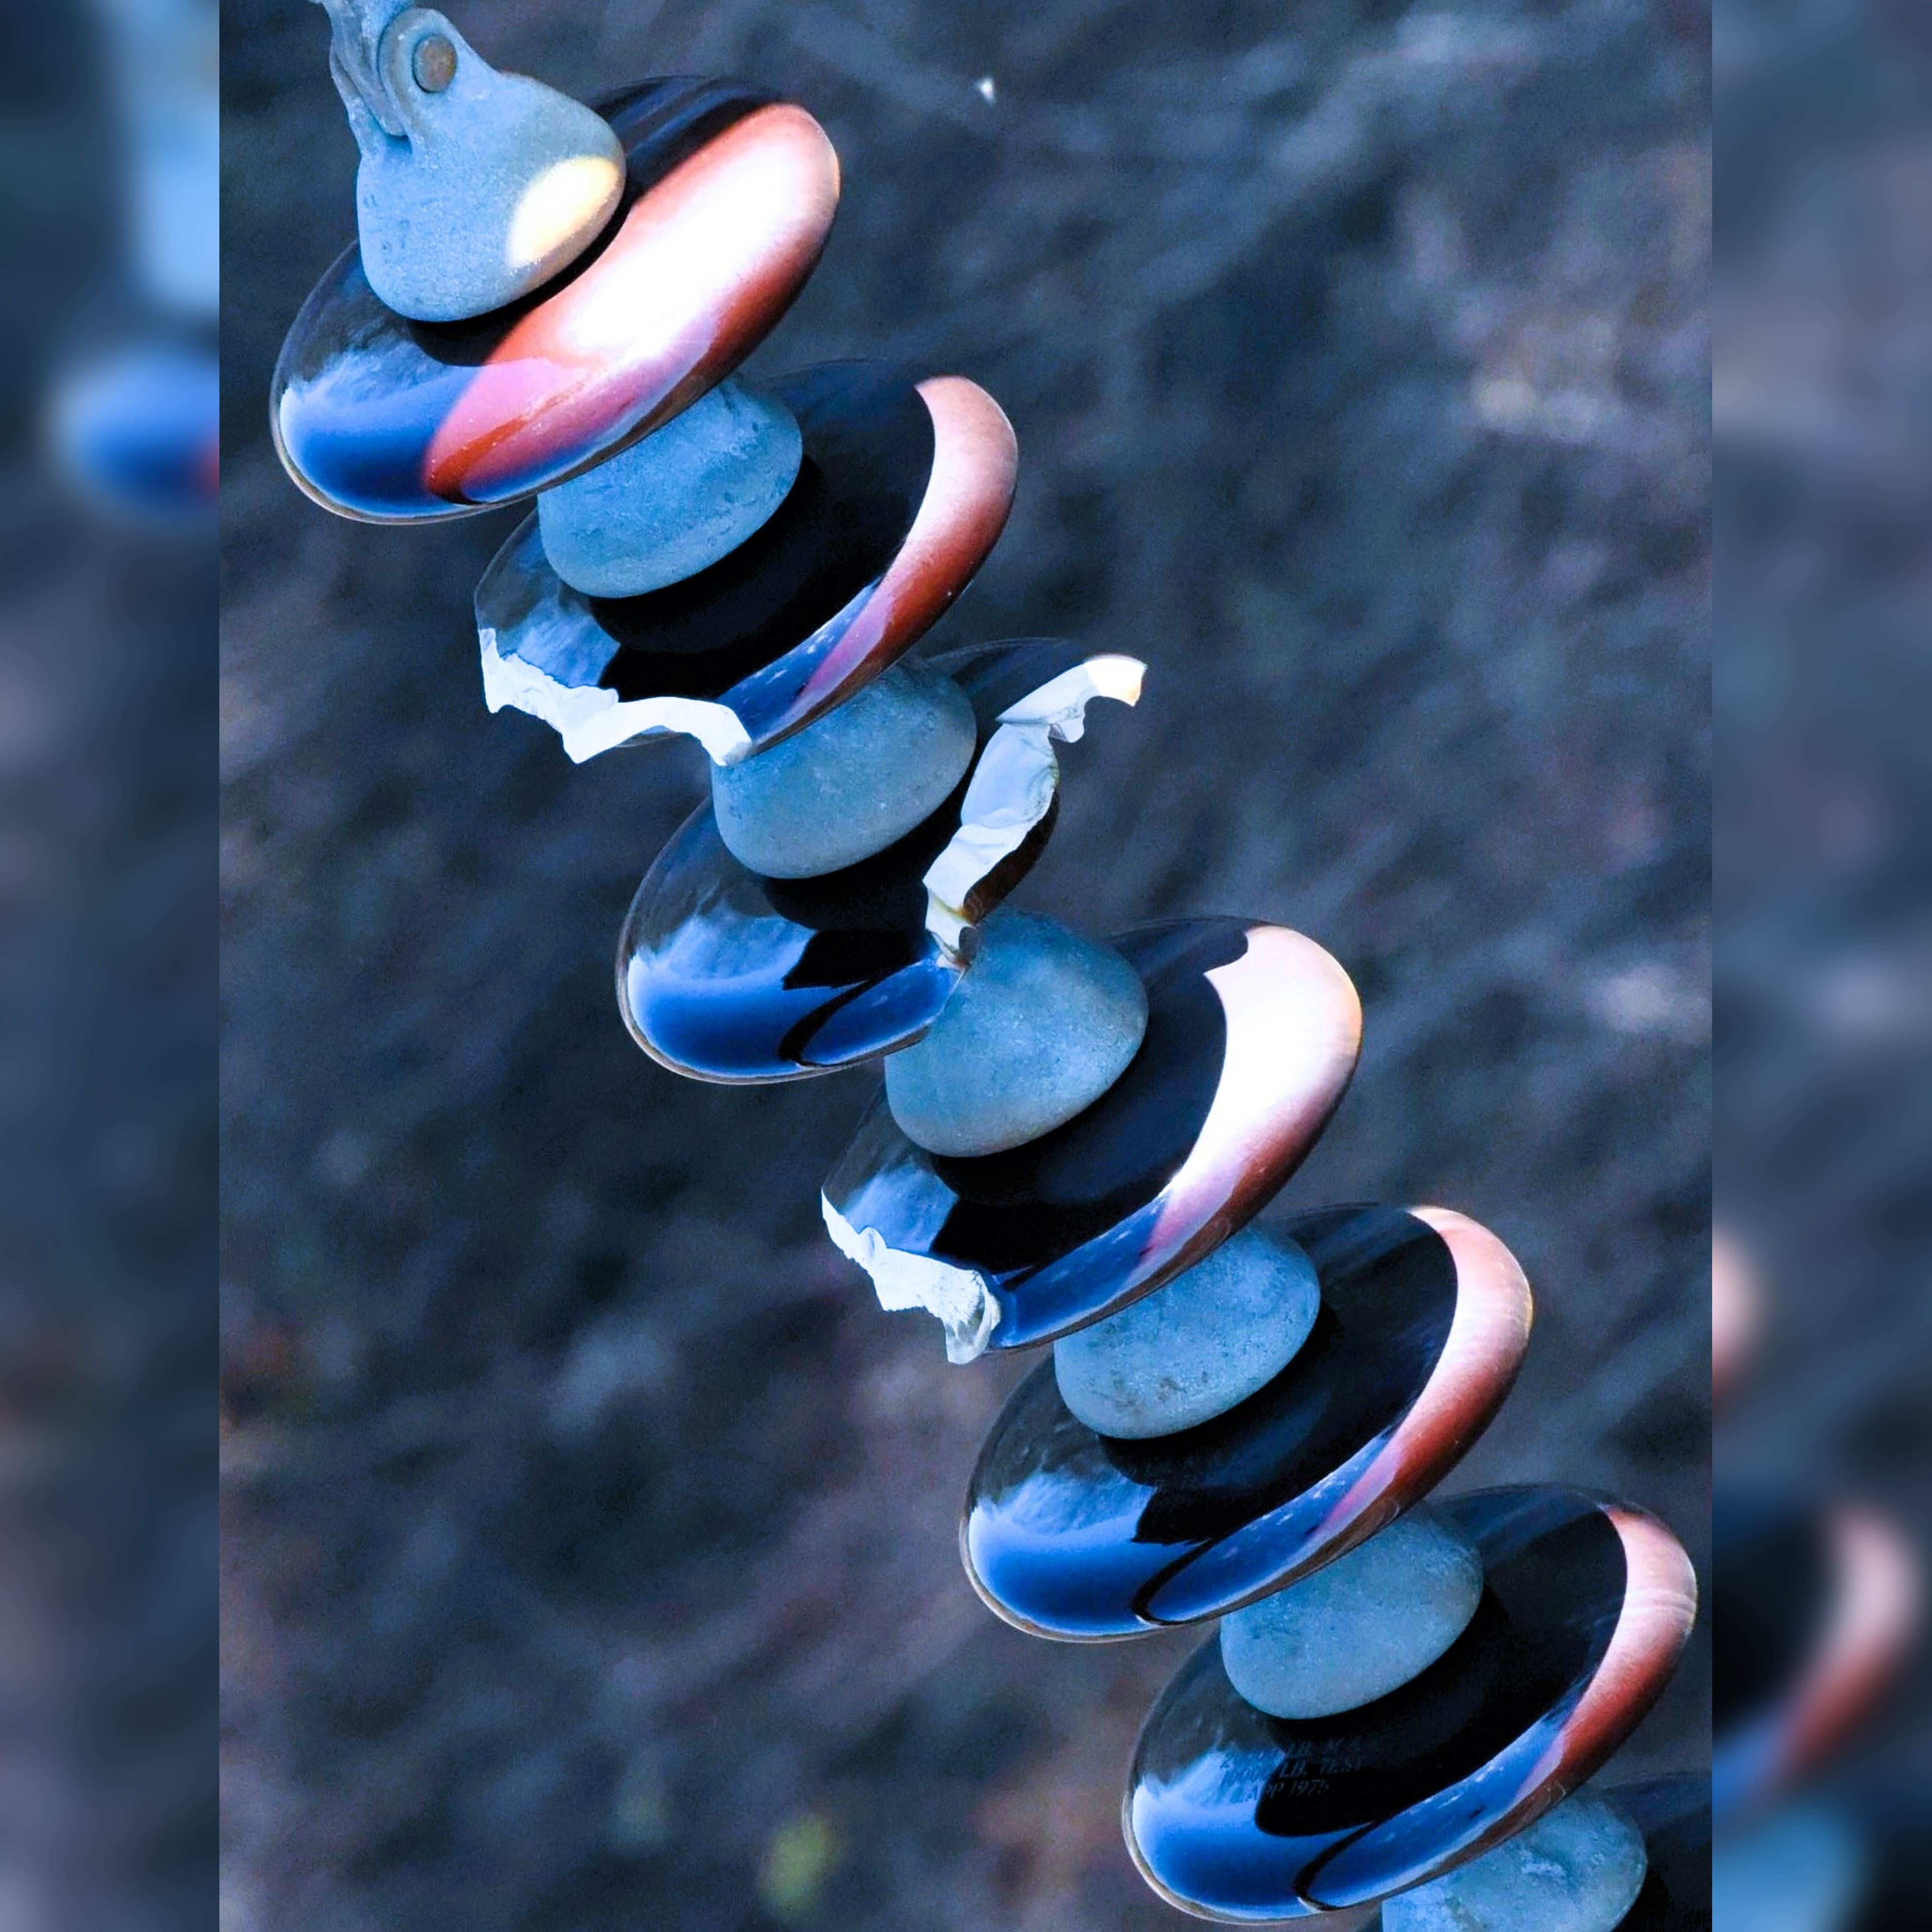insulator breakage: (432, 379, 1380, 1373)
